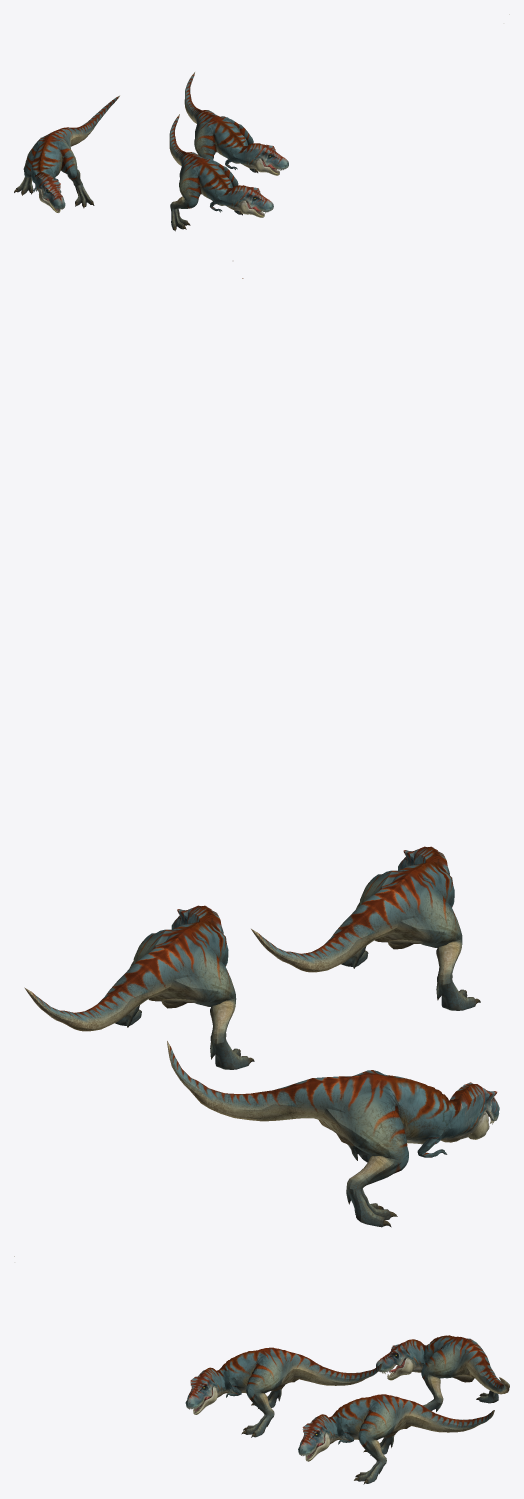
Rendered from khunglong.fbx.
3 views of the same model, one above another, from view 1: azimuth 30°, elevation 25°; view 2: azimuth 150°, elevation 25°; view 3: azimuth 270°, elevation 25° (orthographic). The views are drawn at different scales.
Visible parts, largest first — view 1: T_Rex_obj; view 2: T_Rex_obj; view 3: T_Rex_obj.
Part boxes in pixels (x1,y1,x2,y2): T_Rex_obj: [14, 14, 509, 231]; T_Rex_obj: [24, 278, 499, 1227]; T_Rex_obj: [14, 1256, 509, 1484].
Bounding box in the file's own units: 102 × 85.17 × 128.
1 material, 1 textured.
